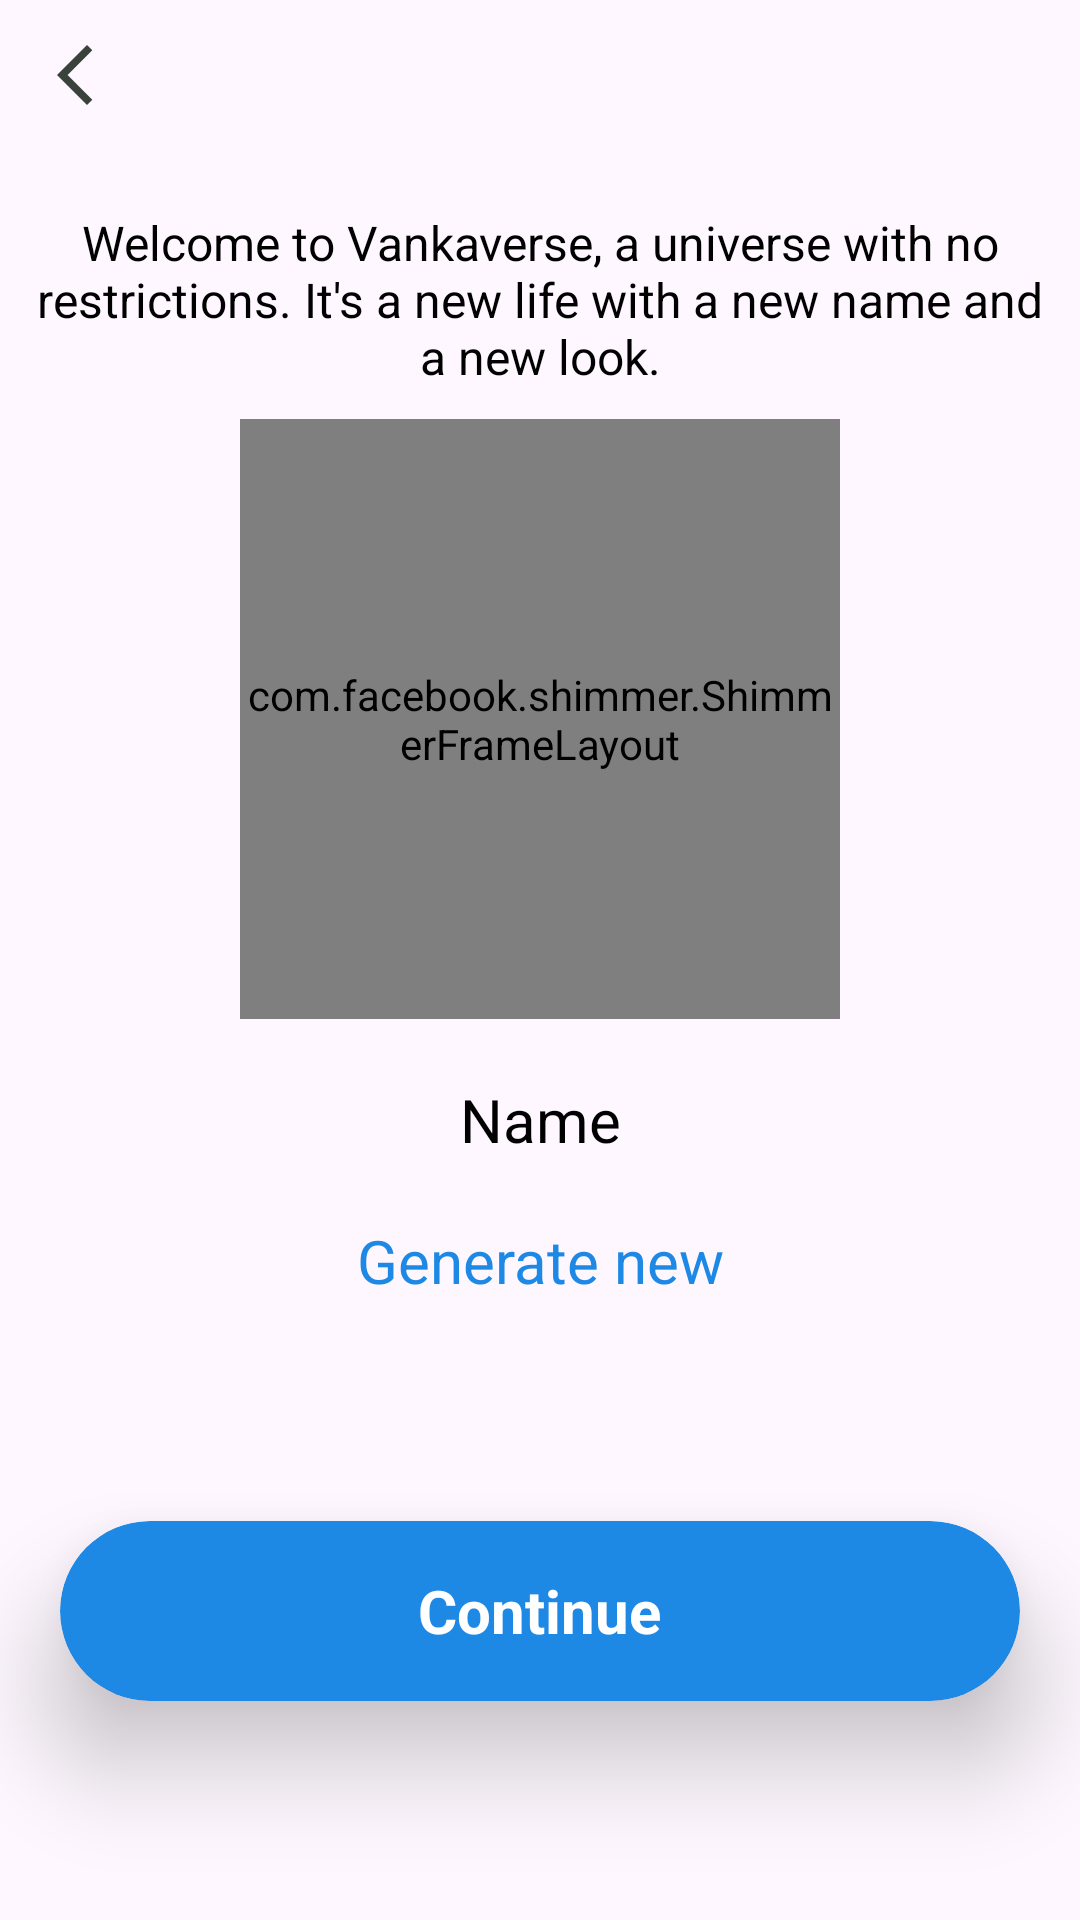

Screen size 1080 × 1920. Icon name, then its center in pixels as (x=x, y=y):
back: (x=74, y=75)
